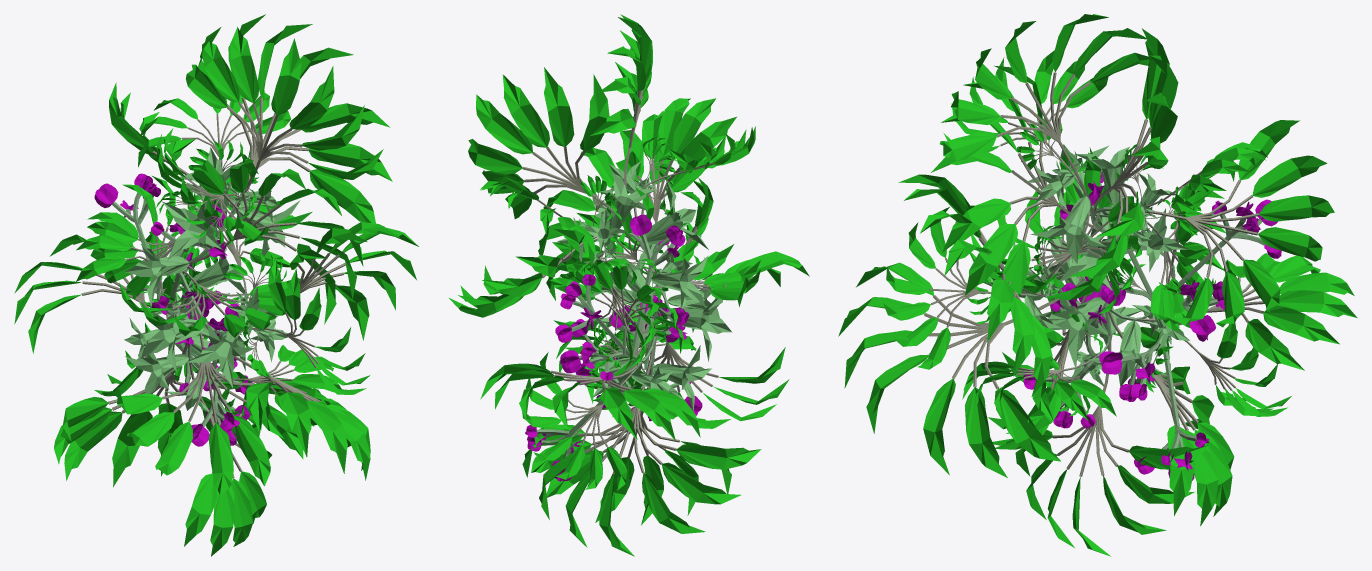
The model's file is plant.gltf.
3 views of the same model, side by side, from view 1: azimuth 30°, elevation 25°; view 2: azimuth 150°, elevation 25°; view 3: azimuth 270°, elevation 25° (orthographic). The views are drawn at different scales.
Visible parts, largest first — view 1: 1Newplan; view 2: 1Newplan; view 3: 1Newplan.
Part boxes in pixels (x1=…): 1Newplan: x1=14, y1=14, x2=418, y2=556; 1Newplan: x1=449, y1=14, x2=809, y2=556; 1Newplan: x1=838, y1=14, x2=1357, y2=556.
Size of the model in its own units: 558 by 876 by 750.
